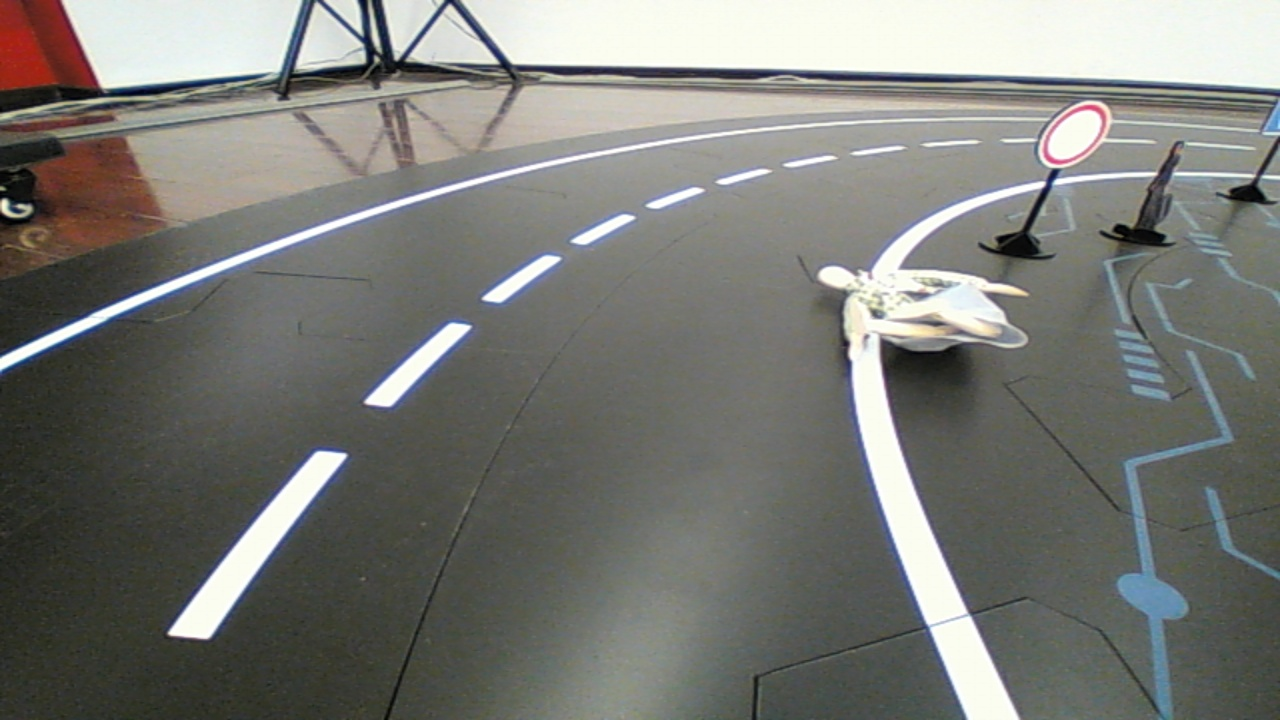Road works: (804, 257, 1039, 365)
